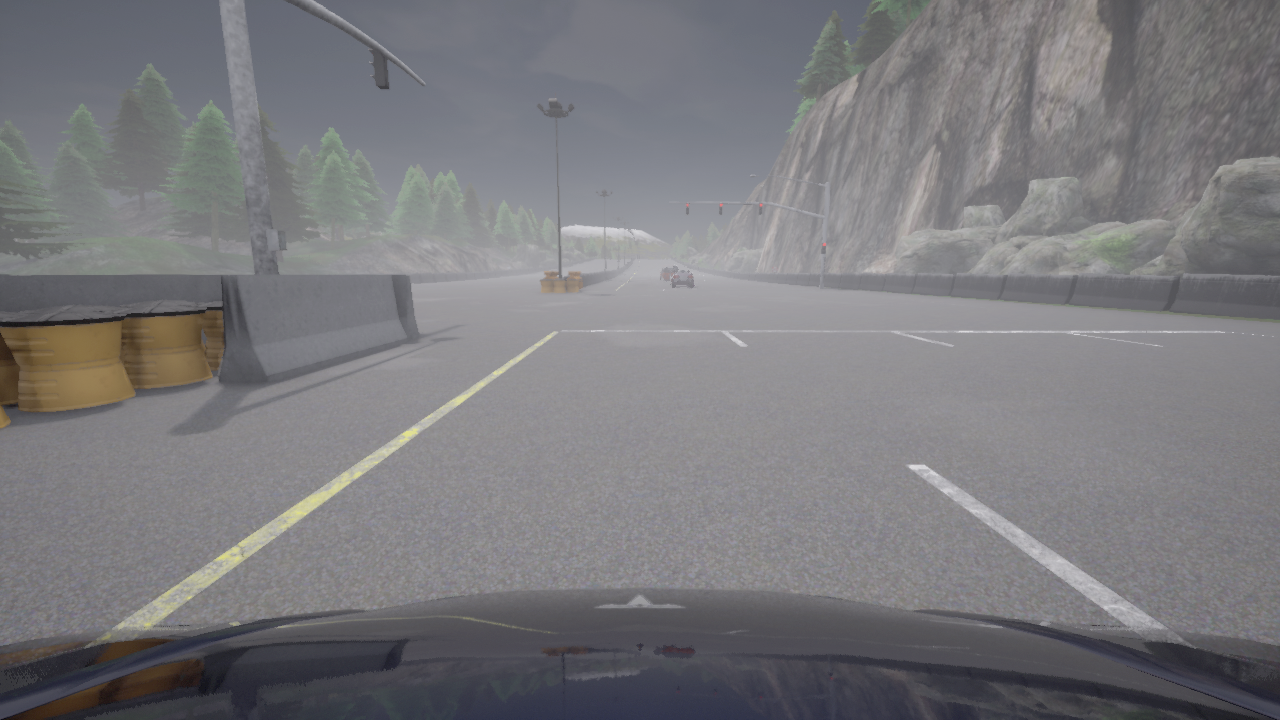cyclist: (0, 588, 1279, 719), (670, 270, 693, 286), (662, 266, 677, 282), (658, 265, 672, 280)
